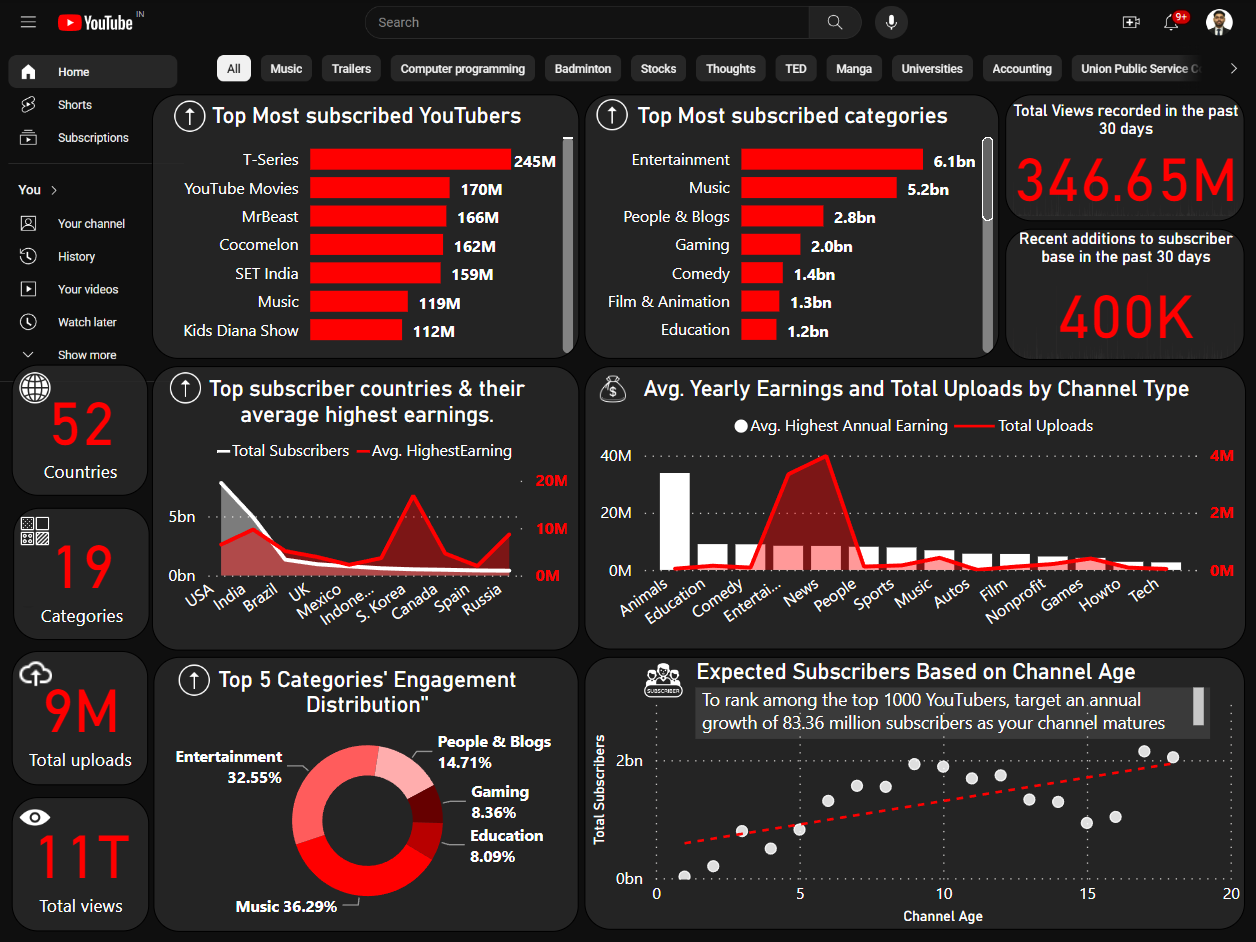

This screenshot's page, from the dashboard's own definition file:
{"tool":"powerbi","page":{"name":"TopYT1","canvas":[960,720],"ordinal":0},"visuals":[{"type":"kpi","title":"Recent additions to subscriber base in the past 30 days","fields":{"TrendLine":["Onyx Data -DataDNA Dataset Challenge - Top 1000 YouTubers - November 2023.Youtuber"],"Indicator":["Sum(Onyx Data -DataDNA Dataset Challenge - Top 1000 YouTubers - November 2023.subscribers_for_last_30_days)"]},"box":[766.7,174.4,182.2,100],"z":0},{"type":"kpi","title":"Total Views recorded in the past 30 days","fields":{"TrendLine":["Onyx Data -DataDNA Dataset Challenge - Top 1000 YouTubers - November 2023.Youtuber"],"Indicator":["Sum(Onyx Data -DataDNA Dataset Challenge - Top 1000 YouTubers - November 2023.video_views_for_the_last_30_days)"]},"box":[766.7,72.2,182.2,96.7],"z":1000},{"type":"barChart","title":"Top Most subscribed YouTubers ","fields":{"Category":["Onyx Data -DataDNA Dataset Challenge - Top 1000 YouTubers - November 2023.Youtuber"],"Y":["Sum(Onyx Data -DataDNA Dataset Challenge - Top 1000 YouTubers - November 2023.subscribers)"]},"box":[117.3,72.7,325.3,201.7],"z":2000},{"type":"clusteredBarChart","title":"Top Most subscribed categories","fields":{"Y":["Sum(Onyx Data -DataDNA Dataset Challenge - Top 1000 YouTubers - November 2023.subscribers)"],"Category":["Onyx Data -DataDNA Dataset Challenge - Top 1000 YouTubers - November 2023.category"]},"box":[445.7,72.9,315.7,201.4],"z":3000},{"type":"card","fields":{"Values":["Count(Onyx Data -DataDNA Dataset Challenge - Top 1000 YouTubers - November 2023.Country)"]},"box":[10.3,278.8,103.8,100.2],"z":3000,"group":"g1"},{"type":"lineClusteredColumnComboChart","title":"Avg. Yearly Earnings and Total Uploads by Channel Type","fields":{"Y2":["Sum(Onyx Data -DataDNA Dataset Challenge - Top 1000 YouTubers - November 2023.uploads)"],"Category":["Onyx Data -DataDNA Dataset Challenge - Top 1000 YouTubers - November 2023.channel_type"],"Y":["Avg(Onyx Data -DataDNA Dataset Challenge - Top 1000 YouTubers - November 2023.highest_yearly_earnings)"]},"box":[445.9,279,504.3,216.3],"z":4000},{"type":"card","fields":{"Values":["Count(Onyx Data -DataDNA Dataset Challenge - Top 1000 YouTubers - November 2023.category)"]},"box":[11,387.7,103.8,100.8],"z":4000,"group":"g1"},{"type":"group","id":"g1","title":"Group 1","box":[10,278.8,103.8,431.2],"z":5000},{"type":"card","fields":{"Values":["Sum(Onyx Data -DataDNA Dataset Challenge - Top 1000 YouTubers - November 2023.video views)"]},"box":[10.3,607.7,104.4,102],"z":5000,"group":"g1"},{"type":"areaChart","title":"Top subscriber countries & their average highest earnings.","fields":{"Category":["Onyx Data -DataDNA Dataset Challenge - Top 1000 YouTubers - November 2023.Country"],"Y":["Sum(Onyx Data -DataDNA Dataset Challenge - Top 1000 YouTubers - November 2023.subscribers)"],"Y2":["Avg(Onyx Data -DataDNA Dataset Challenge - Top 1000 YouTubers - November 2023.highest_yearly_earnings)"]},"box":[117.2,279.1,326,216.6],"z":6000},{"type":"card","fields":{"Values":["Sum(Onyx Data -DataDNA Dataset Challenge - Top 1000 YouTubers - November 2023.uploads)"]},"box":[10,497.1,103.8,102],"z":6000,"group":"g1"},{"type":"donutChart","title":"Top 5 Categories'' Engagement Distribution\"","fields":{"Category":["Onyx Data -DataDNA Dataset Challenge - Top 1000 YouTubers - November 2023.category"],"Y":["Sum(Onyx Data -DataDNA Dataset Challenge - Top 1000 YouTubers - November 2023.video views)"]},"box":[117.9,500.7,324.3,209.3],"z":7000},{"type":"scatterChart","title":"Expected Subscribers Based on Channel Age","fields":{"X":["Onyx Data -DataDNA Dataset Challenge - Top 1000 YouTubers - November 2023.Channel_Longetivity"],"Y":["Sum(Onyx Data -DataDNA Dataset Challenge - Top 1000 YouTubers - November 2023.subscribers)"]},"box":[445.7,500.7,503.6,207.9],"z":8000},{"type":"image","box":[10,278,35.3,35.3],"z":9000},{"type":"image","box":[10,387.3,35.3,35.3],"z":10000},{"type":"image","box":[10.5,605.3,35.3,35.3],"z":11000},{"type":"image","box":[127.6,71.7,35.2,35.2],"z":12000},{"type":"image","box":[125.2,278.3,35.2,35.2],"z":13000},{"type":"image","box":[131.2,500.7,35.2,35.2],"z":14000},{"type":"image","box":[449.6,70.5,35.2,35.2],"z":15000},{"type":"image","box":[486.1,498.2,40.1,40.1],"z":16000},{"type":"textbox","box":[531.3,524.7,391.8,39.1],"z":17000},{"type":"image","box":[11.2,496.7,34.6,34.6],"z":18000},{"type":"image","box":[451,279.1,34.6,34.6],"z":19000}]}

Visuals, with their boxes on the page's 960x720 design canvas (x1, y1, x2, y2). These are canvas units, not pixel positions in the 1256x942 screenshot, which may show the page scaled, cropped or inside an application window:
"Recent additions to subscriber base in the past 30 days" kpi: (left=767, top=174, right=949, bottom=274)
"Total Views recorded in the past 30 days" kpi: (left=767, top=72, right=949, bottom=169)
"Top Most subscribed YouTubers " barChart: (left=117, top=73, right=443, bottom=274)
"Top Most subscribed categories" clusteredBarChart: (left=446, top=73, right=761, bottom=274)
card - Count(Onyx Data -DataDNA Dataset Challenge - Top 1000 YouTubers - November 2023.Country): (left=10, top=279, right=114, bottom=379)
"Avg. Yearly Earnings and Total Uploads by Channel Type" lineClusteredColumnComboChart: (left=446, top=279, right=950, bottom=495)
card - Count(Onyx Data -DataDNA Dataset Challenge - Top 1000 YouTubers - November 2023.category): (left=11, top=388, right=115, bottom=488)
"Group 1" group: (left=10, top=279, right=114, bottom=710)
card - Sum(Onyx Data -DataDNA Dataset Challenge - Top 1000 YouTubers - November 2023.video views): (left=10, top=608, right=115, bottom=710)
"Top subscriber countries & their average highest earnings." areaChart: (left=117, top=279, right=443, bottom=496)
card - Sum(Onyx Data -DataDNA Dataset Challenge - Top 1000 YouTubers - November 2023.uploads): (left=10, top=497, right=114, bottom=599)
"Top 5 Categories'' Engagement Distribution"" donutChart: (left=118, top=501, right=442, bottom=710)
"Expected Subscribers Based on Channel Age" scatterChart: (left=446, top=501, right=949, bottom=709)
image: (left=10, top=278, right=45, bottom=313)
image: (left=10, top=387, right=45, bottom=423)
image: (left=10, top=605, right=46, bottom=641)
image: (left=128, top=72, right=163, bottom=107)
image: (left=125, top=278, right=160, bottom=314)
image: (left=131, top=501, right=166, bottom=536)
image: (left=450, top=70, right=485, bottom=106)
image: (left=486, top=498, right=526, bottom=538)
textbox: (left=531, top=525, right=923, bottom=564)
image: (left=11, top=497, right=46, bottom=531)
image: (left=451, top=279, right=486, bottom=314)
